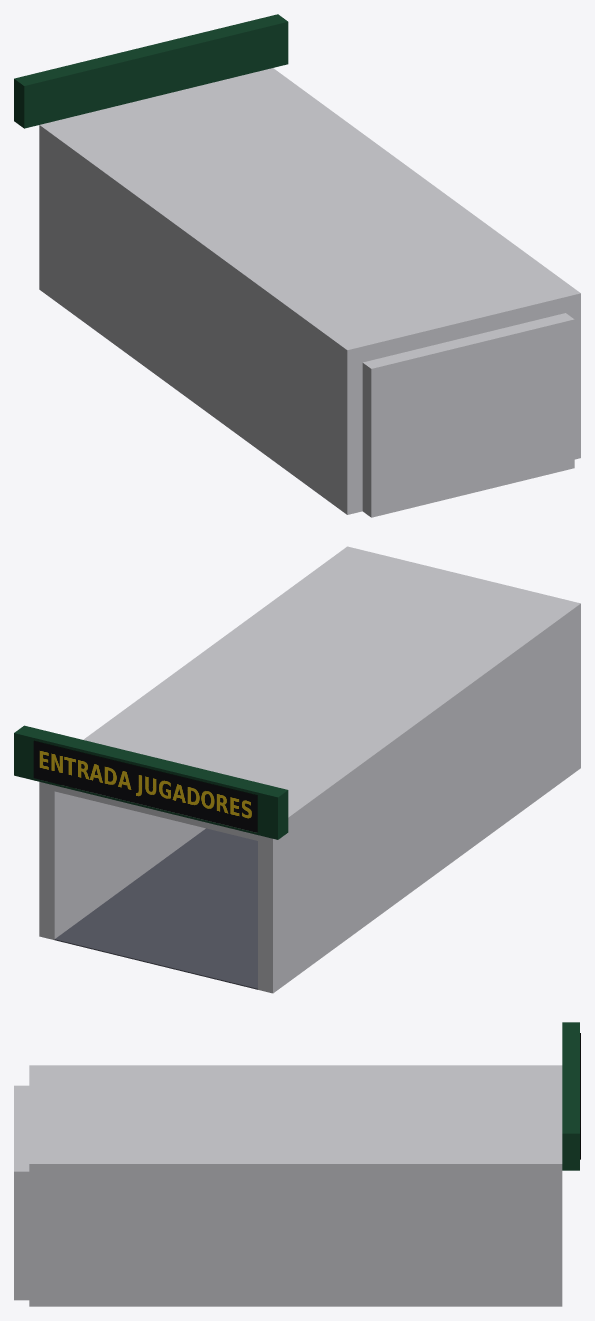
File: Tunel.obj
3 views of the same model, one above another, from view 1: azimuth 30°, elevation 25°; view 2: azimuth 150°, elevation 25°; view 3: azimuth 270°, elevation 25° (orthographic). The views are drawn at different scales.
Parts seen in each view (by area): view 1: Tunel; view 2: Tunel; view 3: Tunel.
Boxes of the visible parts, x1,y1,x2,y2 form: Tunel: (14,14,580,517); Tunel: (14,546,580,993); Tunel: (14,1022,580,1306).
Bounding box in the file's own units: 5.2 × 3.9 × 11.17.
Materials: 1 (1 with a texture image).
